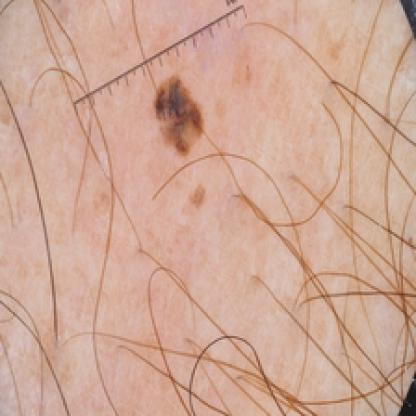malignant: (148, 80, 212, 147)
